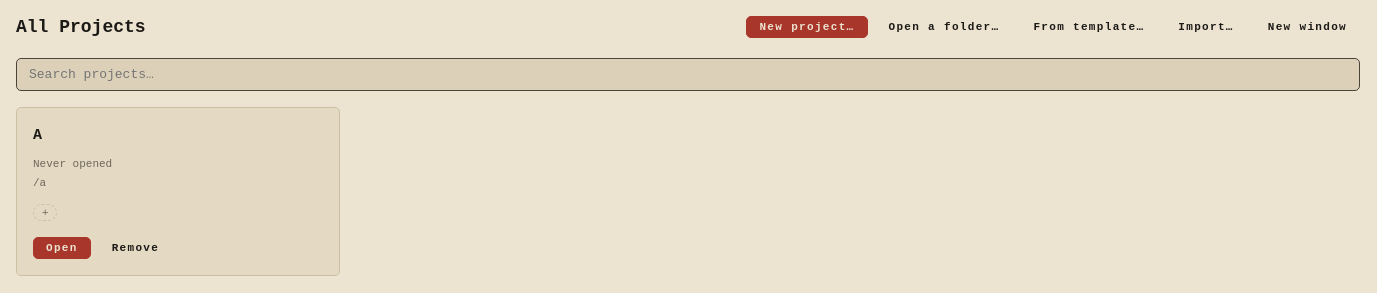
Test case: ProjectDashboard tag management › opens the add-tag input when + is clicked
Click the button named "Add tag to A".
click(45, 213)  # box [33,204,57,222]
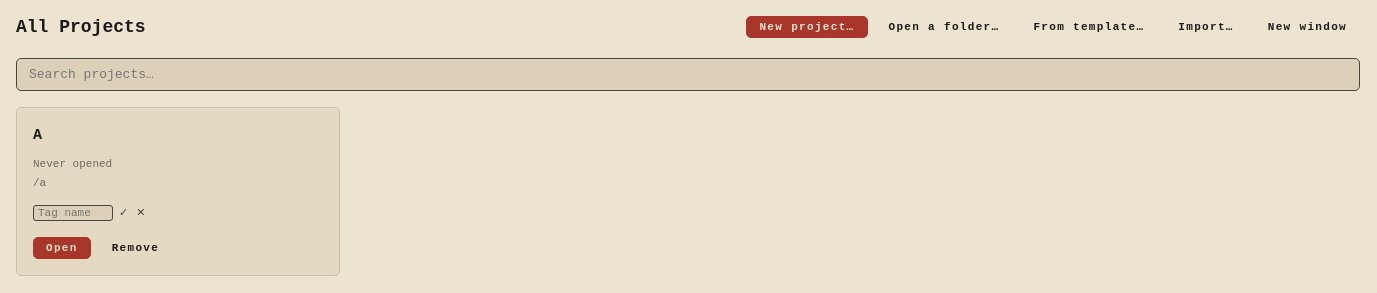
Expected: the field named "New tag name" is shown, [33,205,113,221]
